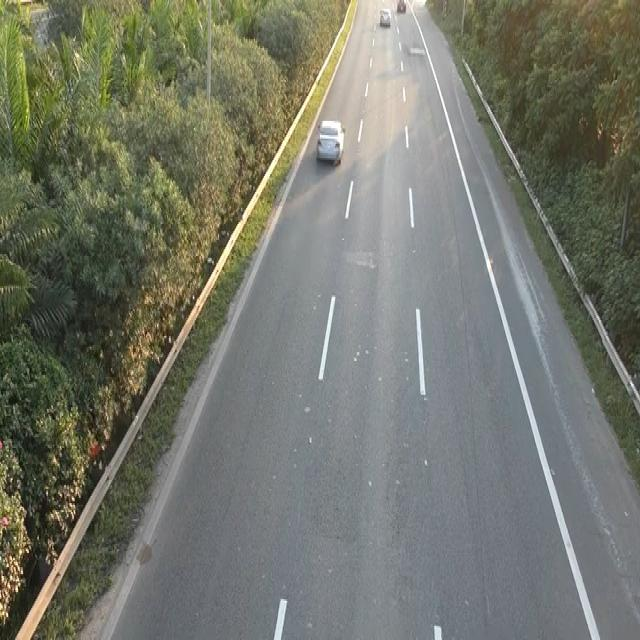bus: (314, 114, 348, 172), (378, 5, 391, 27), (396, 0, 406, 12)
